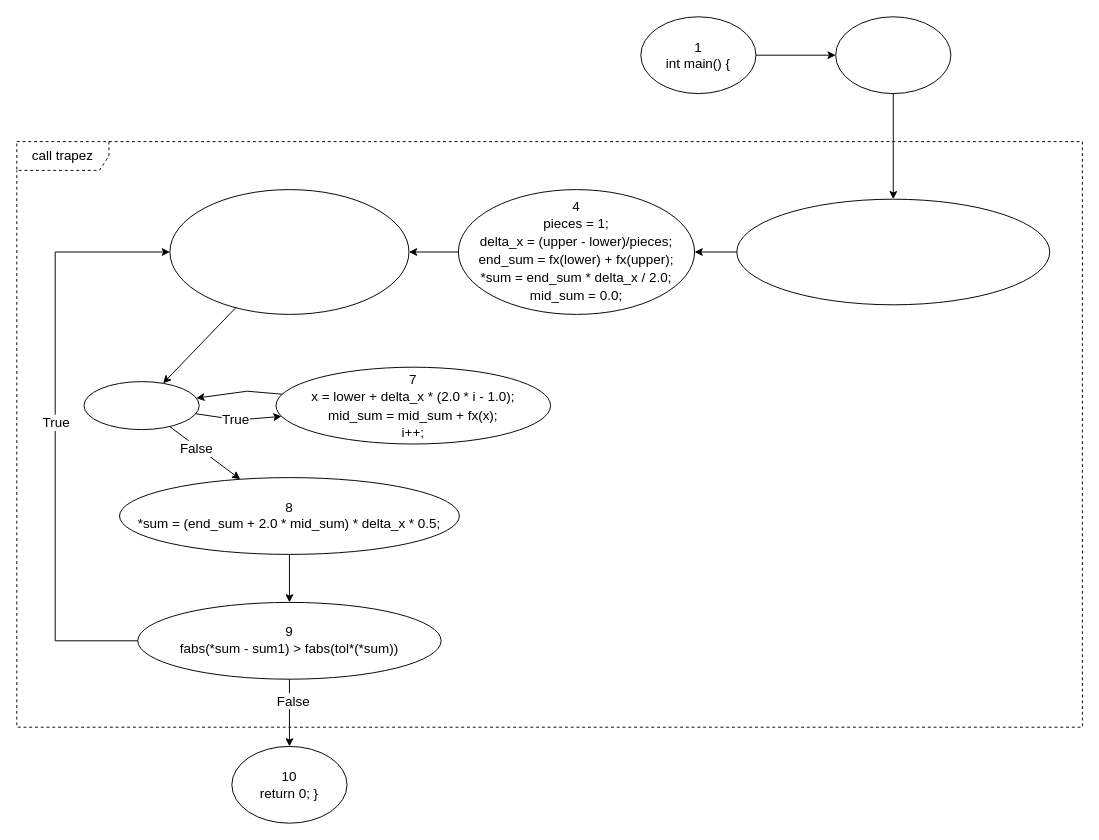
Some shapes in this 1099 by 840 pixel diagram are drawn without their labels. The centre of each missing label's shape, as x and y in pixels:
2 lower = 1.0 upper = 9.0: (x=893, y=55)
3 int pieces; i; double x, delta_x, end_sum, mid_sum, sum1;: (x=893, y=251)
5 pieces = pieces*2; sum1 = *sum; delta_x = (upper-lower)/pieces; i = 1;: (x=289, y=251)
6 i <= pieces / 2: (x=141, y=405)
